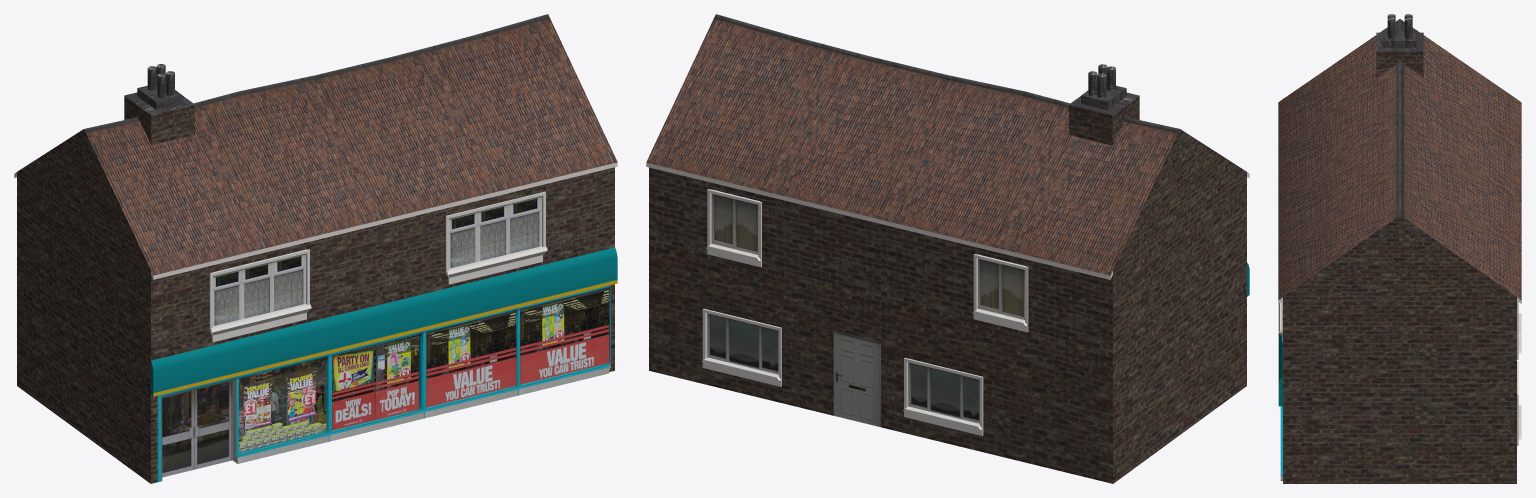
File: ukcommercialfood20.FBX
The picture shows the model from 3 angles, left to right: view 1: azimuth 30°, elevation 25°; view 2: azimuth 150°, elevation 25°; view 3: azimuth 270°, elevation 25°; orthographic projection. The views are drawn at different scales.
Parts seen in each view (by area): view 1: Box002; view 2: Box002; view 3: Box002.
Boxes of the visible parts, x1,y1,x2,y2 form: Box002: [14, 14, 617, 483]; Box002: [646, 14, 1249, 483]; Box002: [1278, 14, 1521, 483].
Bounding box in the file's own units: 1600 × 1137 × 831.
